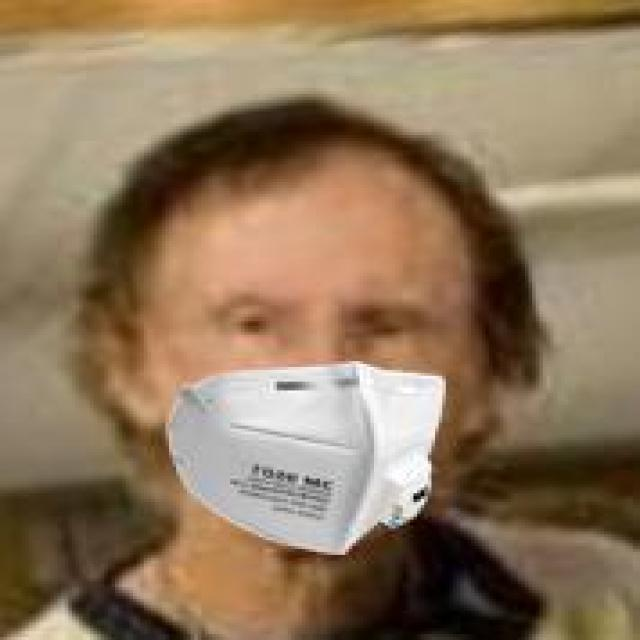mask: (86, 79, 572, 564)
